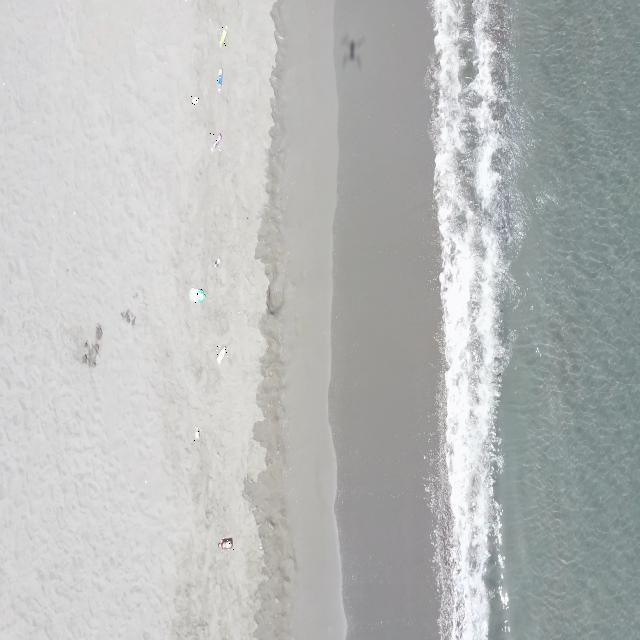Garbage: (190, 287, 206, 303), (216, 346, 227, 363), (211, 131, 220, 151), (216, 67, 223, 91), (220, 24, 227, 47), (218, 537, 232, 548), (193, 427, 199, 442), (190, 95, 198, 104), (213, 257, 219, 266)
